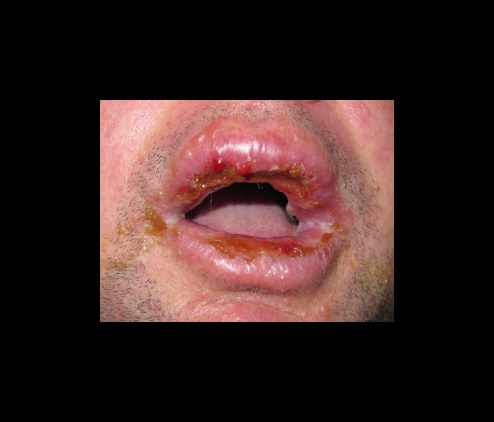SJS-TEN: (109, 201, 347, 278), (154, 114, 325, 206)
